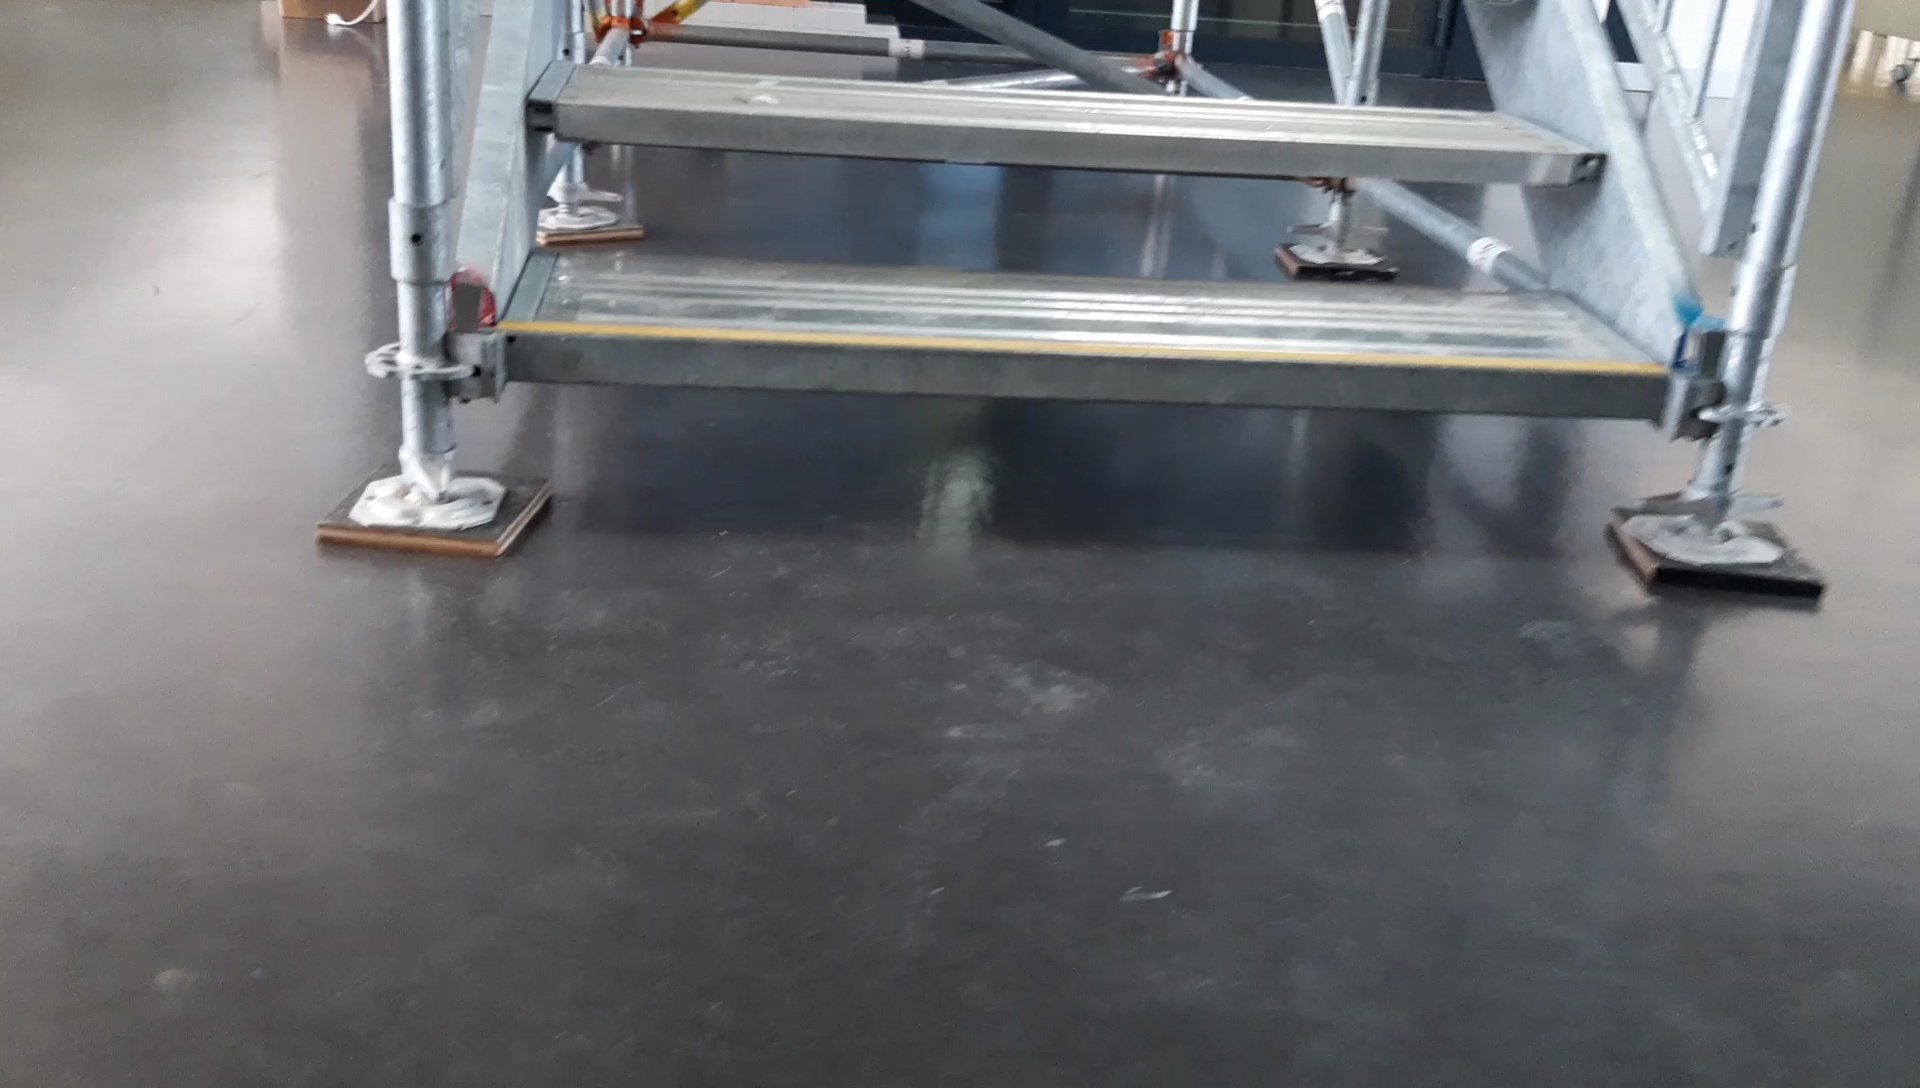edge: (505, 328, 1673, 419), (525, 92, 1605, 187)
stairs: (313, 3, 1825, 605)
